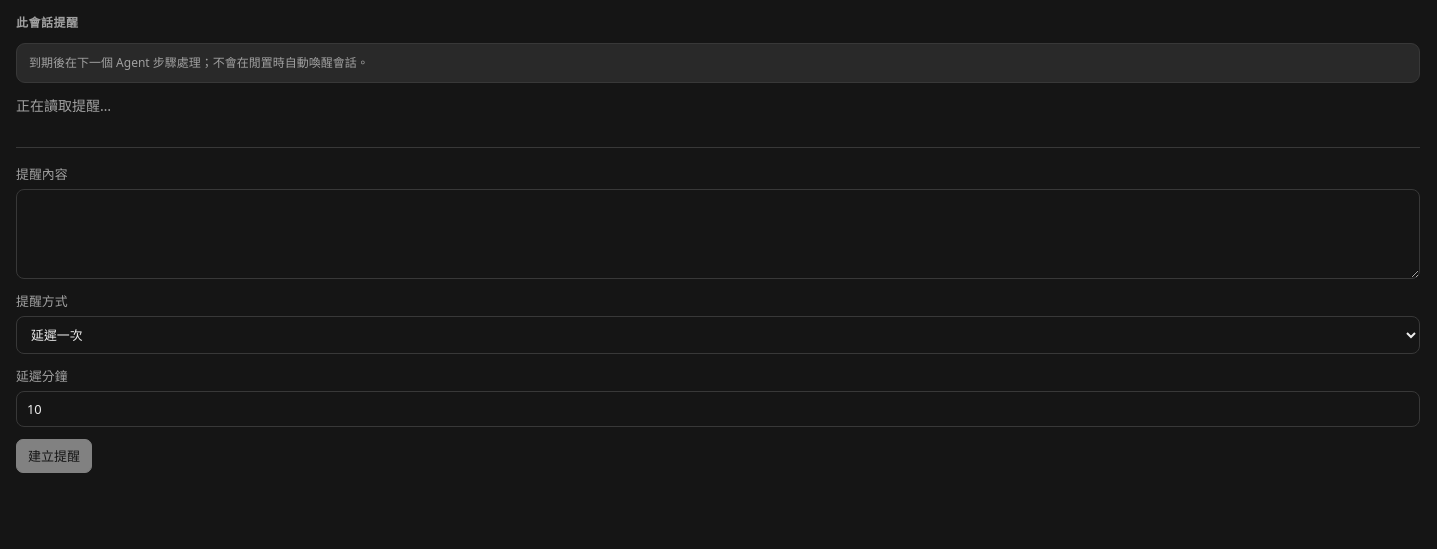
Test case: refreshes after a failed creation and keeps the reason visible
Step 1. Type "整理進度" into the text box labelled "提醒內容" → (718, 234), box [16,189,1420,279]
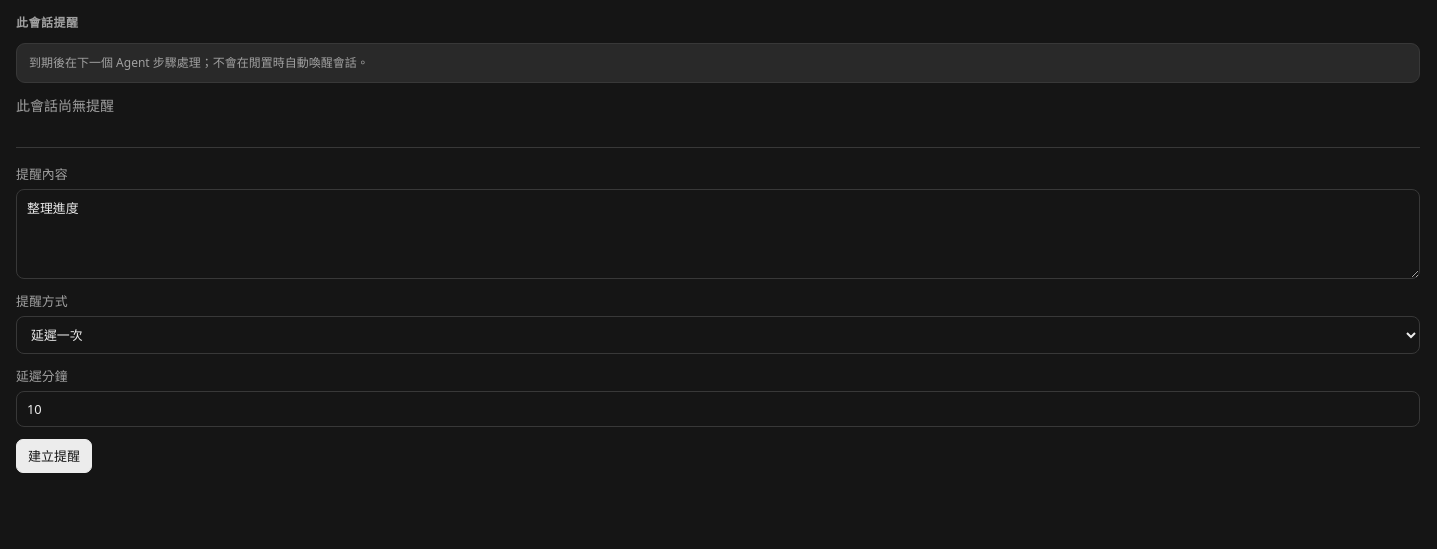
Step 2. Click the button "建立提醒" → (54, 456), box [16,439,92,473]
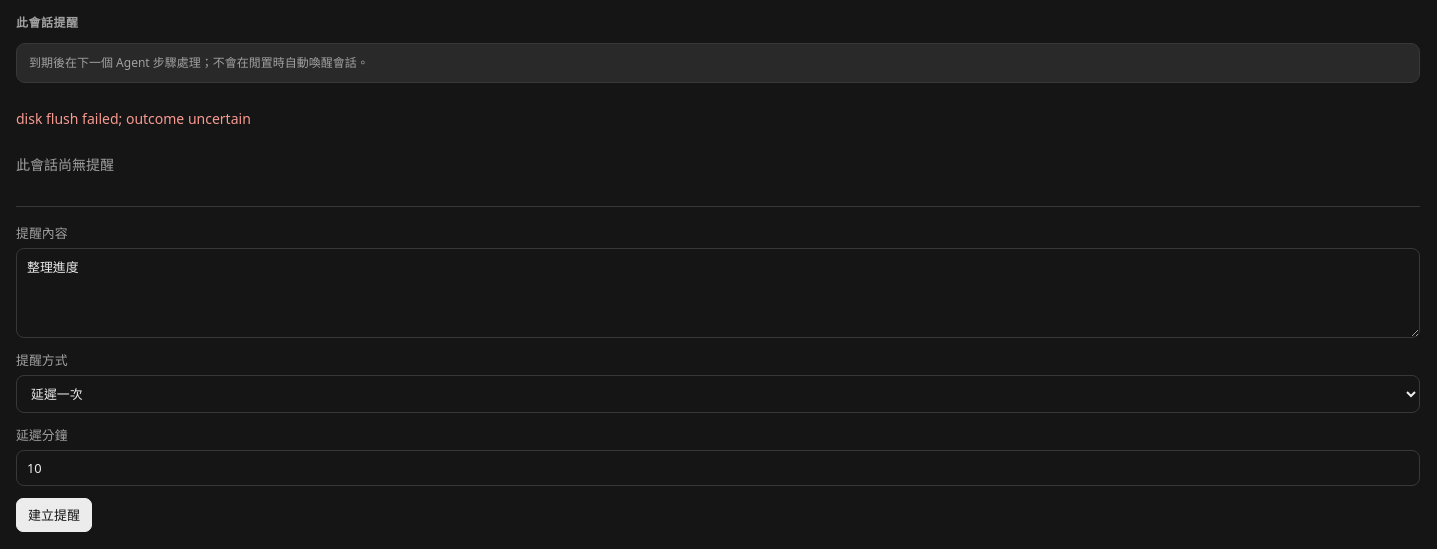
Check: the message shows "disk flush failed", box [16,109,251,128]
